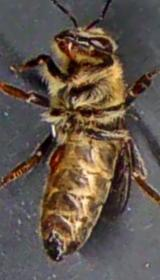varroa_mite: (46, 139, 69, 174)
